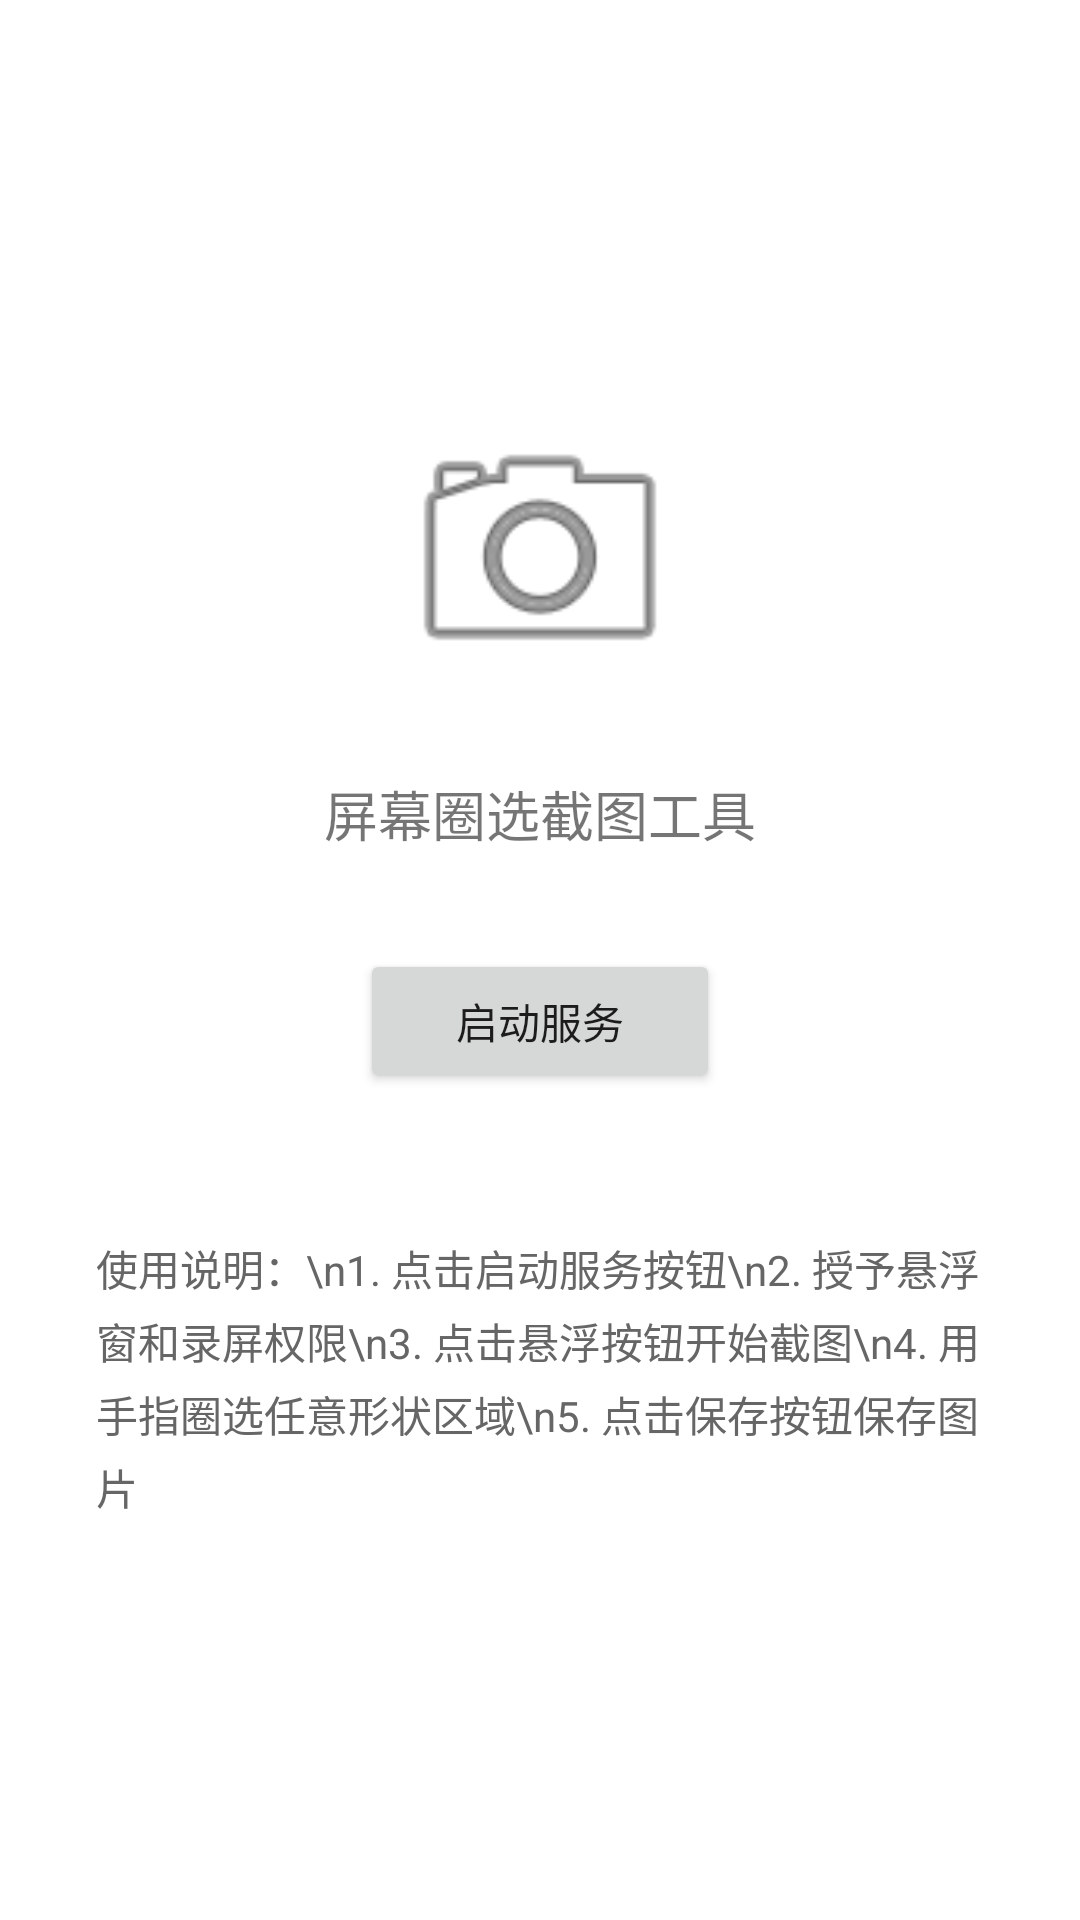

Named icons in this screenshot (1080x1920) and their bounding boxes, (x1, y1, x2, y2):
camera: (424, 455, 656, 640)
